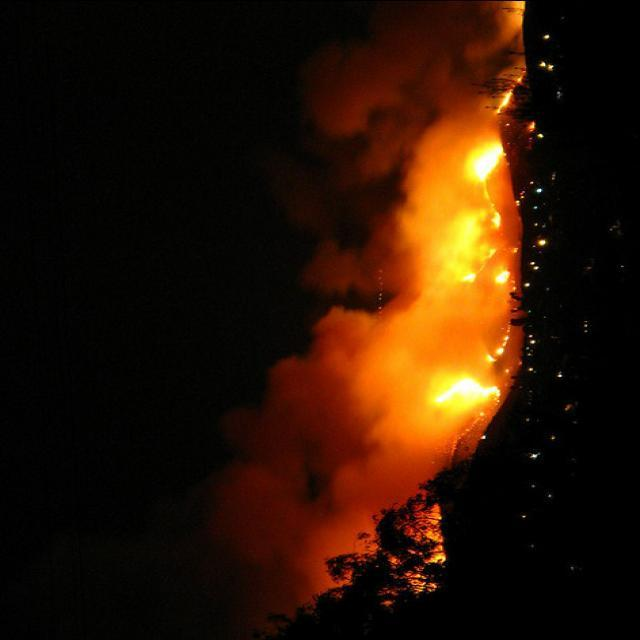Fire: (392, 129, 521, 433)
